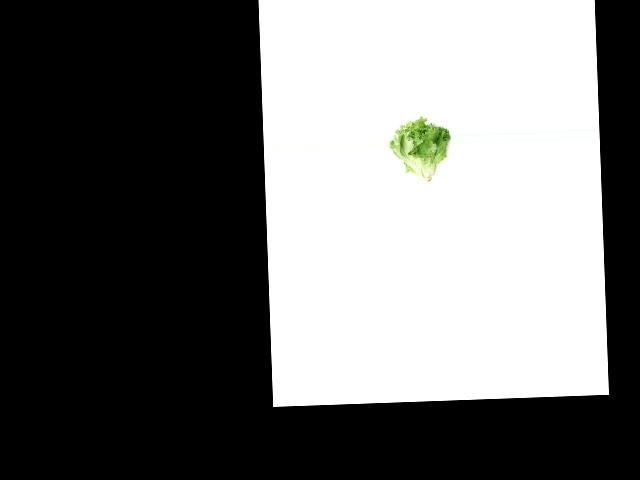lettuce: (386, 117, 453, 183)
